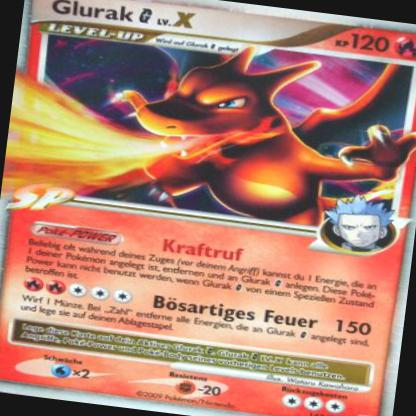Charizard: (95, 44, 409, 199)
